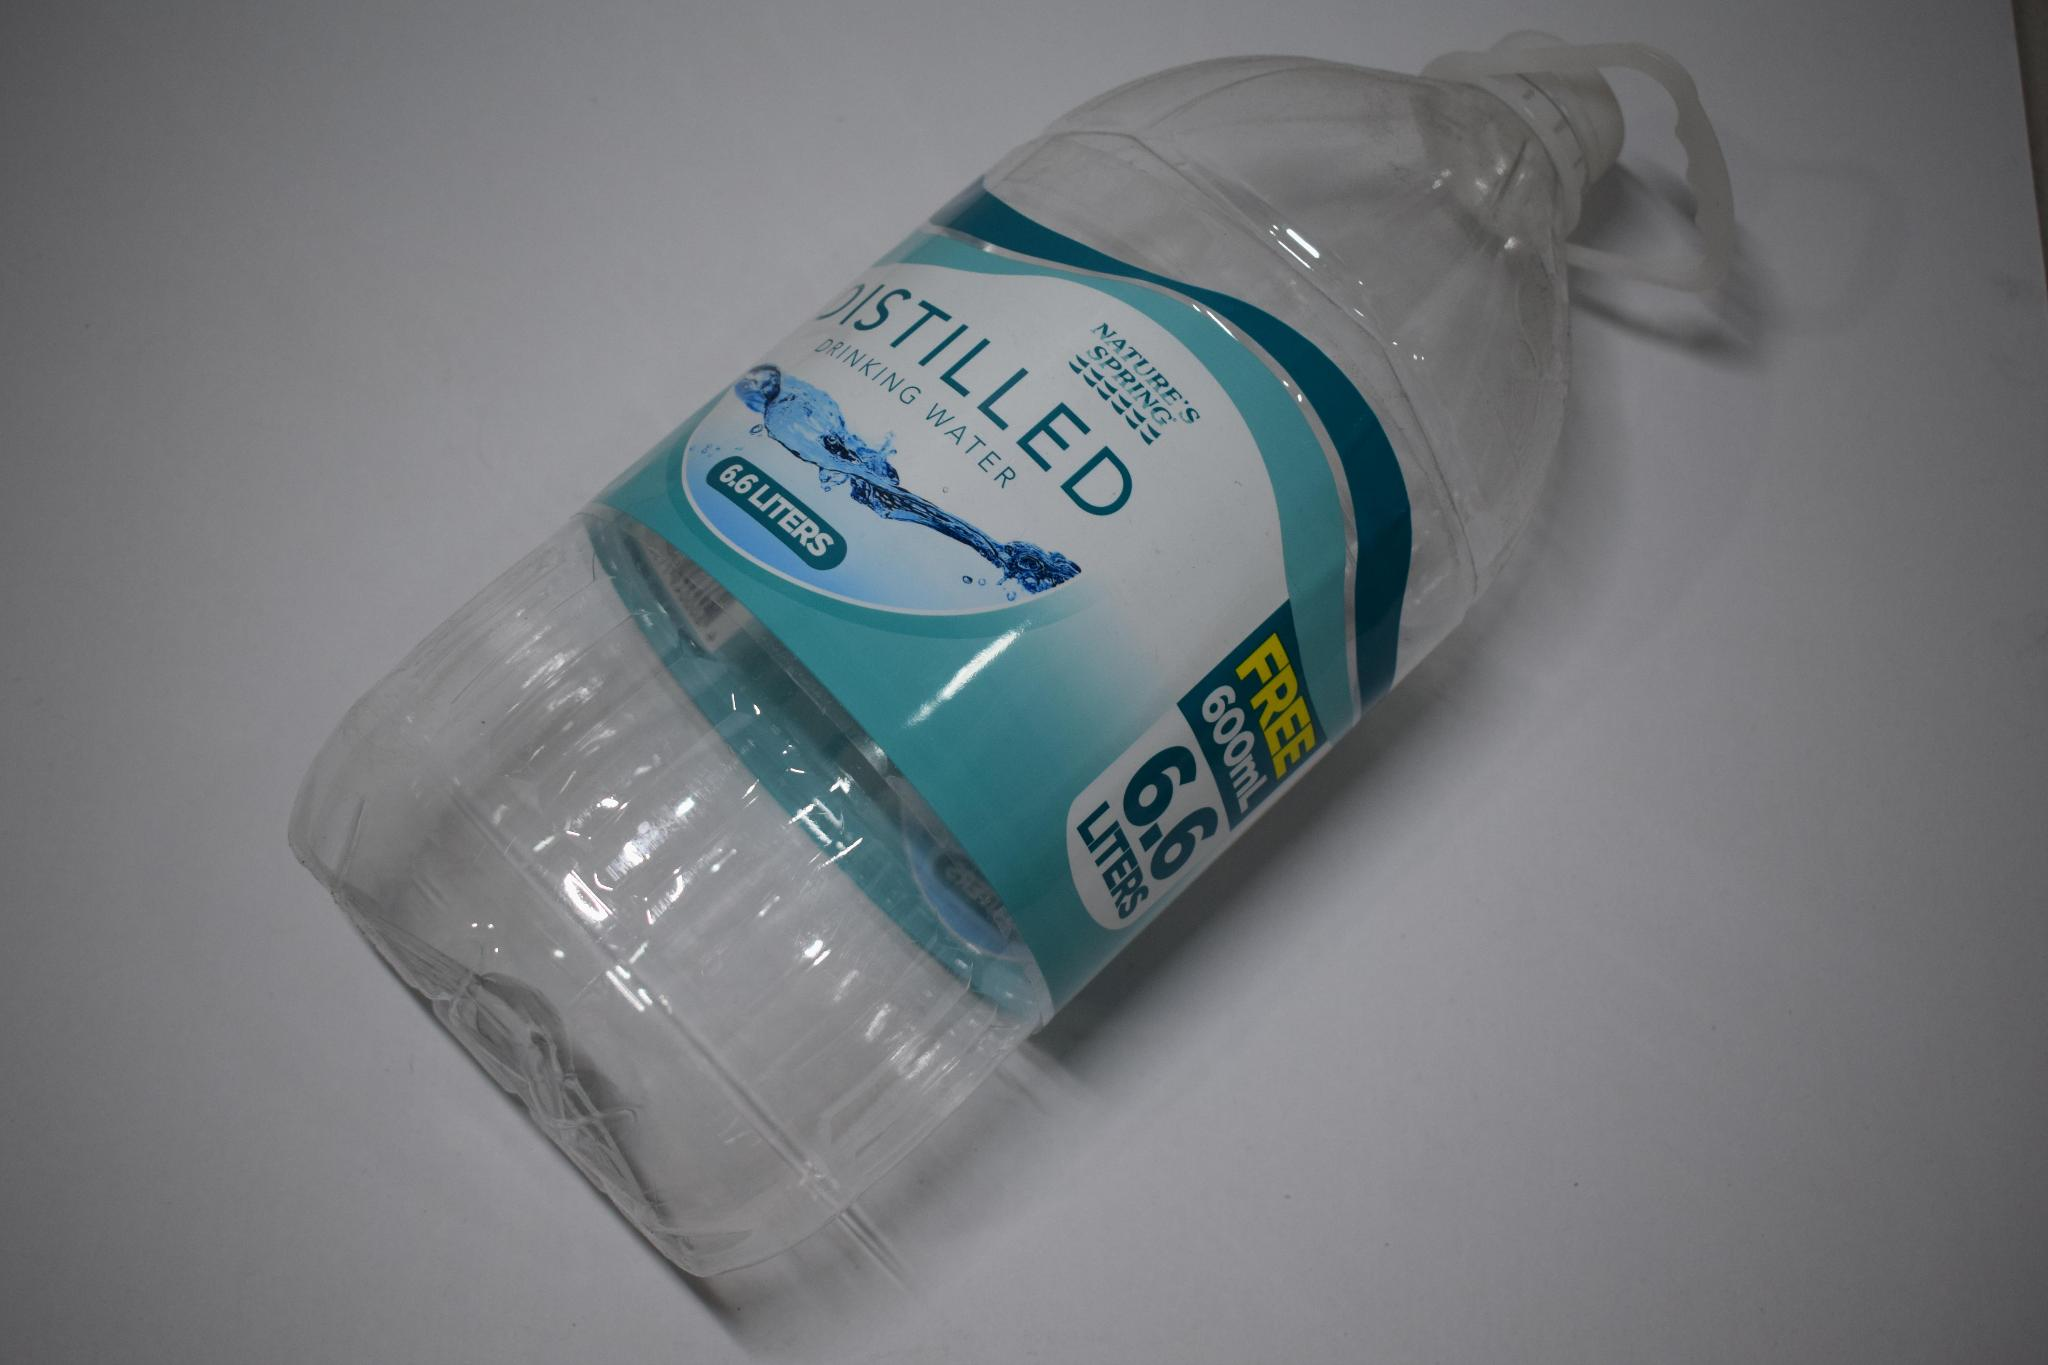bottle: (283, 14, 1751, 1286)
